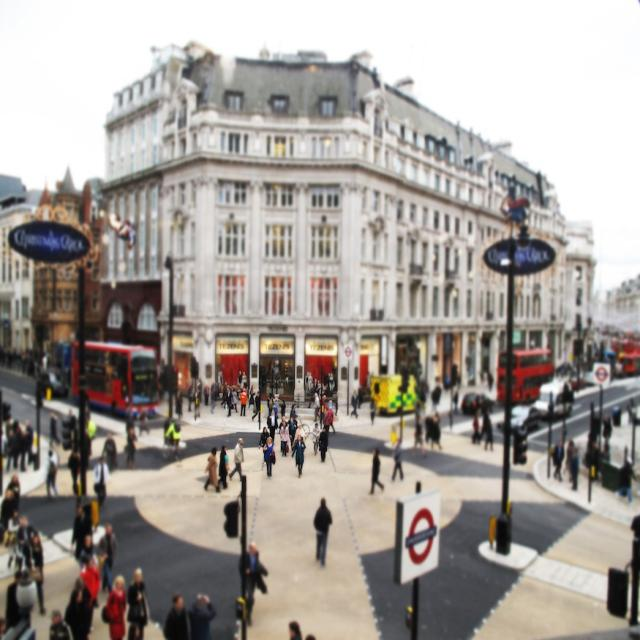body: (475, 344, 575, 395), (90, 349, 181, 396), (0, 339, 72, 390), (16, 513, 46, 616), (78, 530, 110, 610), (238, 540, 260, 628), (125, 565, 151, 639), (575, 346, 638, 376), (96, 520, 119, 598), (101, 573, 128, 639), (311, 496, 334, 570), (185, 591, 219, 639), (62, 585, 92, 639), (613, 455, 638, 510), (70, 500, 92, 560), (163, 592, 190, 640), (628, 512, 640, 619), (3, 508, 24, 569), (5, 569, 24, 631), (587, 437, 612, 484), (80, 555, 101, 609), (4, 418, 22, 475), (259, 358, 293, 387), (5, 472, 22, 527), (227, 436, 246, 485), (423, 408, 444, 452), (0, 485, 17, 539), (163, 416, 182, 464), (94, 455, 111, 508), (42, 448, 60, 498), (48, 607, 76, 639), (216, 369, 248, 397), (413, 373, 430, 425), (122, 424, 140, 472), (304, 370, 336, 397), (203, 445, 220, 494), (368, 446, 384, 496), (410, 412, 427, 458), (23, 418, 38, 468), (290, 433, 306, 479), (66, 576, 92, 603), (66, 446, 80, 496), (83, 400, 93, 470), (356, 368, 371, 412), (551, 436, 565, 483), (477, 405, 493, 445), (262, 435, 277, 477), (390, 437, 404, 482), (449, 362, 461, 414), (48, 408, 62, 452), (600, 408, 614, 452), (217, 443, 230, 490), (125, 411, 151, 434), (49, 439, 60, 490), (471, 405, 483, 449), (564, 439, 576, 483), (482, 412, 495, 452), (100, 430, 117, 460), (624, 396, 638, 432), (257, 426, 270, 464), (65, 407, 77, 448), (266, 408, 279, 445), (192, 376, 202, 422), (431, 376, 443, 414), (278, 418, 290, 456), (123, 620, 147, 639), (278, 414, 289, 454), (570, 447, 580, 491), (317, 426, 328, 462), (292, 420, 306, 448), (223, 386, 234, 418), (324, 406, 336, 435), (251, 390, 261, 424), (311, 422, 321, 456), (288, 416, 297, 452), (210, 378, 219, 413), (319, 393, 331, 419), (185, 383, 195, 413), (202, 378, 212, 408), (219, 380, 229, 410), (238, 388, 248, 418), (230, 386, 240, 414), (174, 388, 183, 419), (306, 382, 316, 409), (312, 392, 321, 422), (350, 388, 359, 418), (326, 398, 340, 417), (288, 621, 302, 639), (290, 402, 299, 428), (369, 397, 377, 426), (266, 392, 275, 417), (247, 384, 255, 409), (278, 399, 286, 417), (302, 631, 320, 639), (271, 396, 281, 406), (322, 405, 328, 416)
